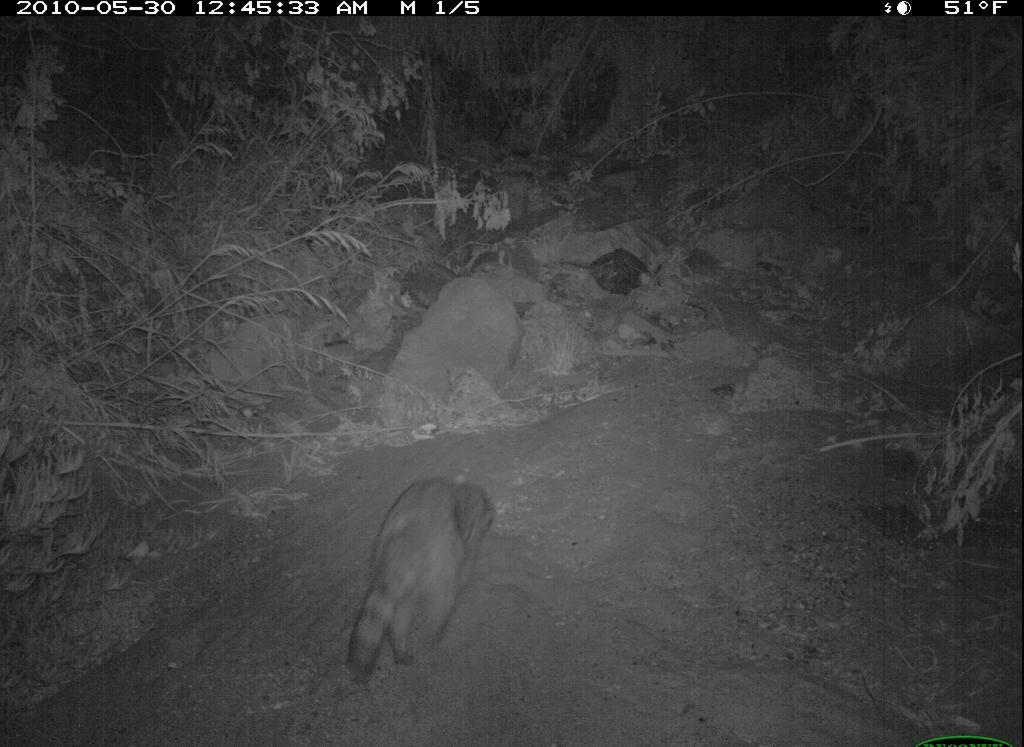raccoon: (333, 468, 516, 705)
